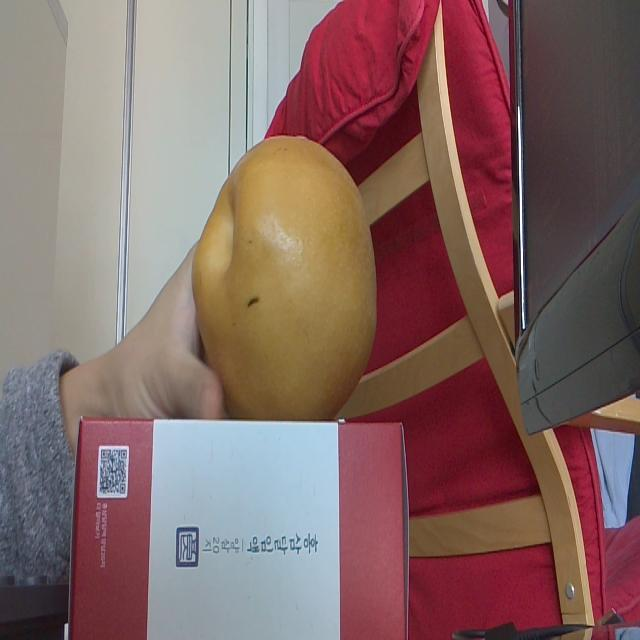pear: (193, 131, 393, 420)
